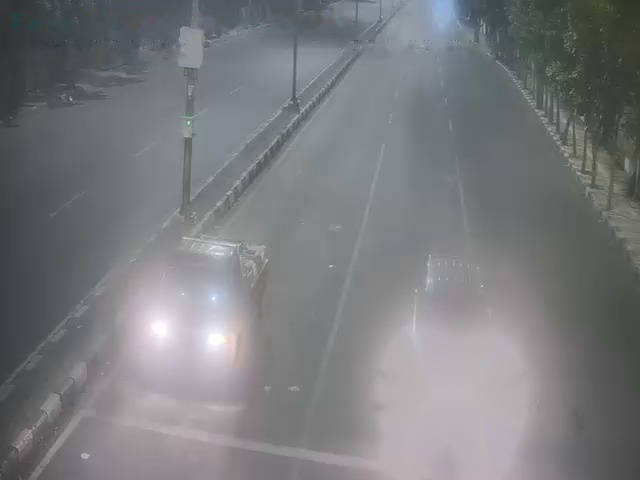Mobil: (152, 228, 270, 371), (401, 248, 498, 416)
